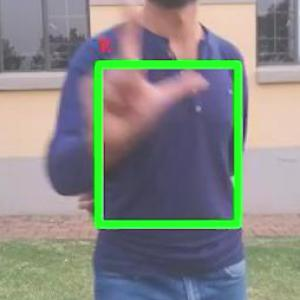land_hand: (83, 0, 217, 166)
